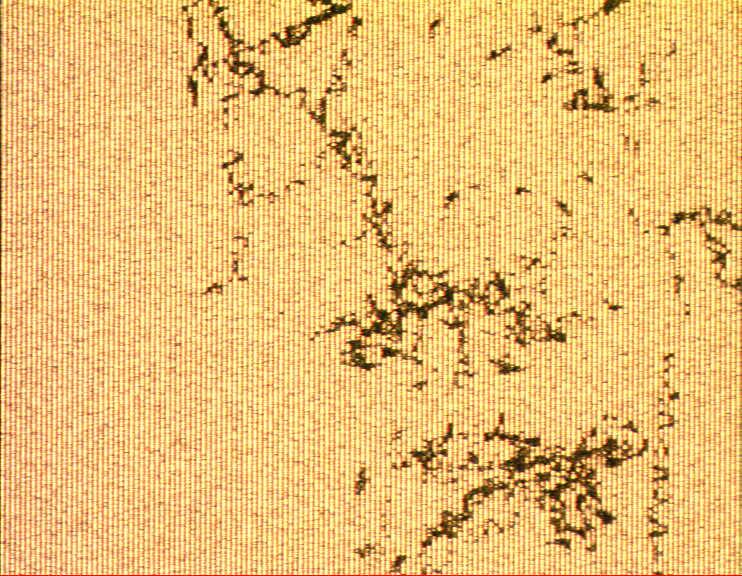SCRATCH: (169, 1, 742, 576)
